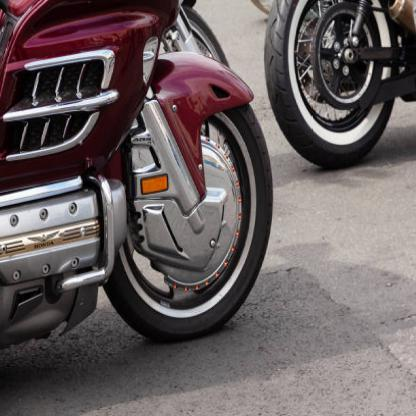Motorcycle: (0, 0, 271, 372)
